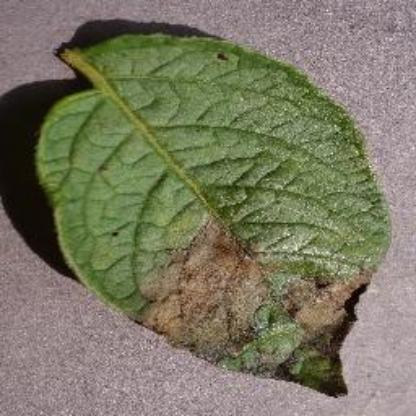Late-Blight: (30, 29, 386, 394)
